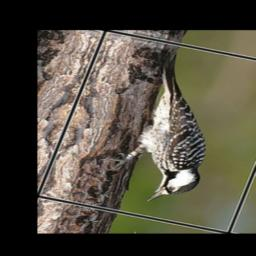Woodpecker: (91, 46, 248, 210)
